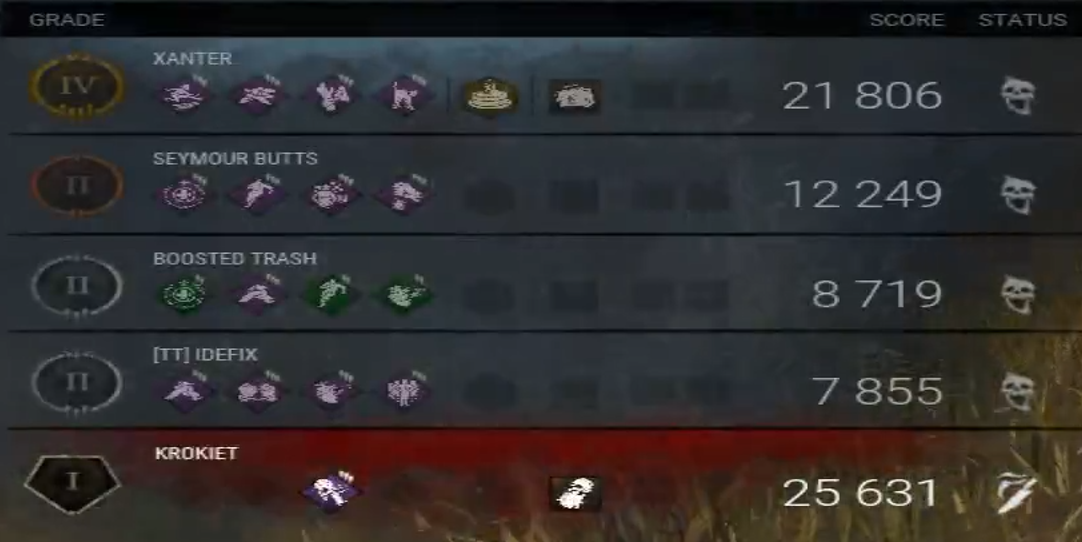adrenaline: (371, 273, 434, 315), (301, 369, 364, 411)
blank_perk: (155, 469, 218, 511), (225, 469, 288, 511), (374, 469, 437, 511)
bond: (226, 370, 289, 412)
borrowed_time: (372, 173, 435, 215)
botany_knowledge: (227, 74, 290, 116)
circle_of_healing: (152, 173, 215, 215), (150, 272, 213, 314)
dead_hard: (226, 173, 289, 215), (299, 272, 362, 314)
decisive_strike: (228, 274, 291, 316), (152, 370, 215, 412)
detectives_hunch: (298, 173, 361, 215)
lithe: (153, 74, 216, 116)
prove_thyself: (372, 369, 435, 411)
self_care: (299, 72, 362, 114)
spine_chill: (373, 73, 436, 115)
unrelenting: (299, 470, 362, 512)
